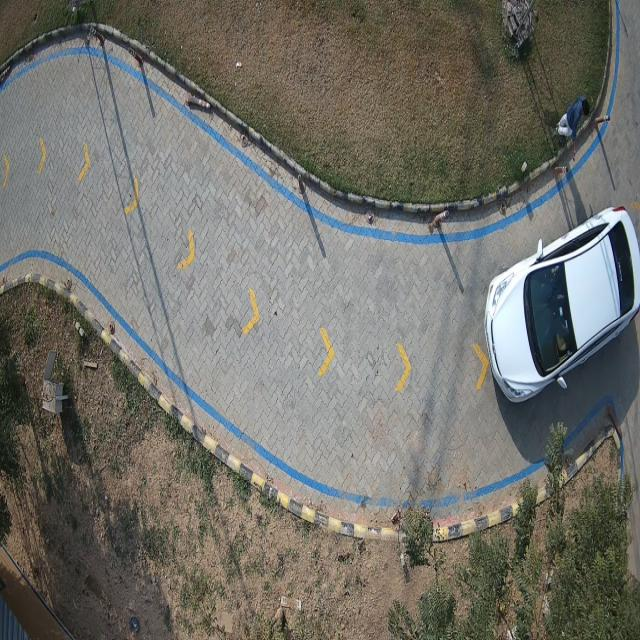car: (485, 207, 640, 401)
